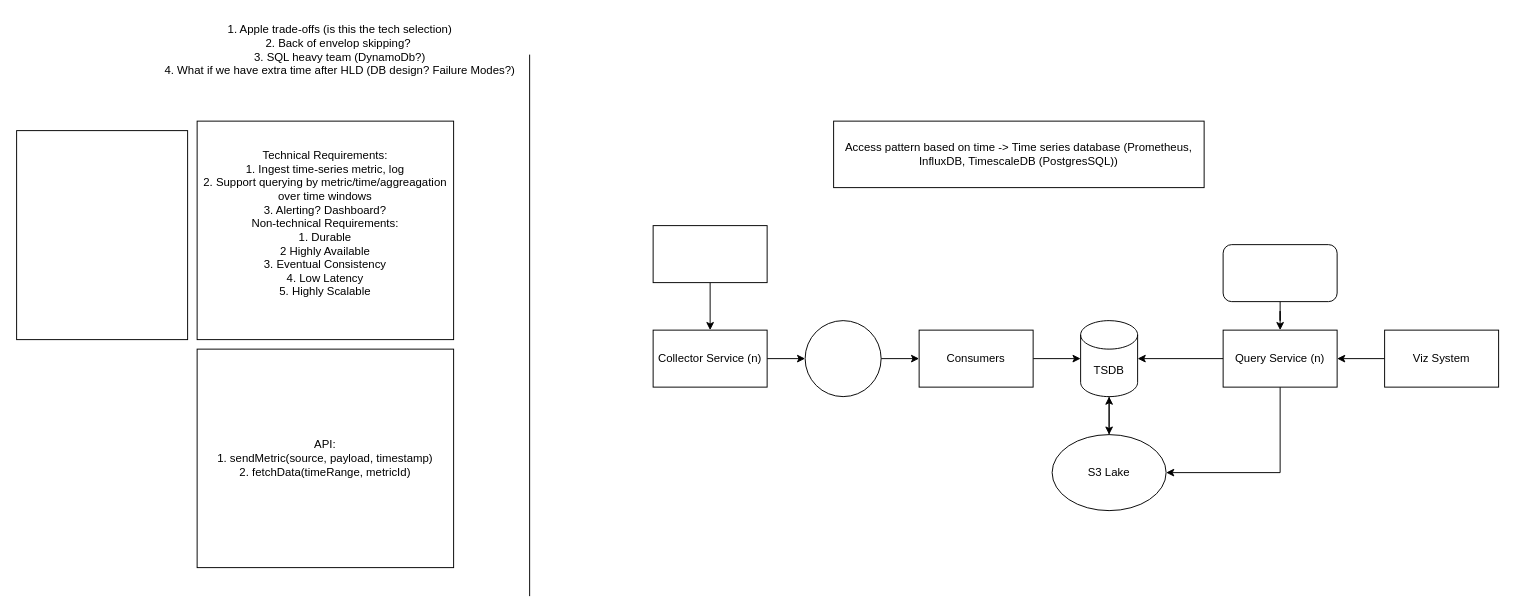
Some shapes in this 1515 by 614 pixel diagram are drawn without their labels. The shapes that lost their labels are listed below. From the top down, each one's centre as x and y in pixels, then its label:
At (x=102, y=235): "1B messages/day 100 bytes/item 100Gb data per day 10^9".
At (x=709, y=254): "Metric Producer".
At (x=1279, y=273): "Alerting".
At (x=842, y=358): "Kafka".
